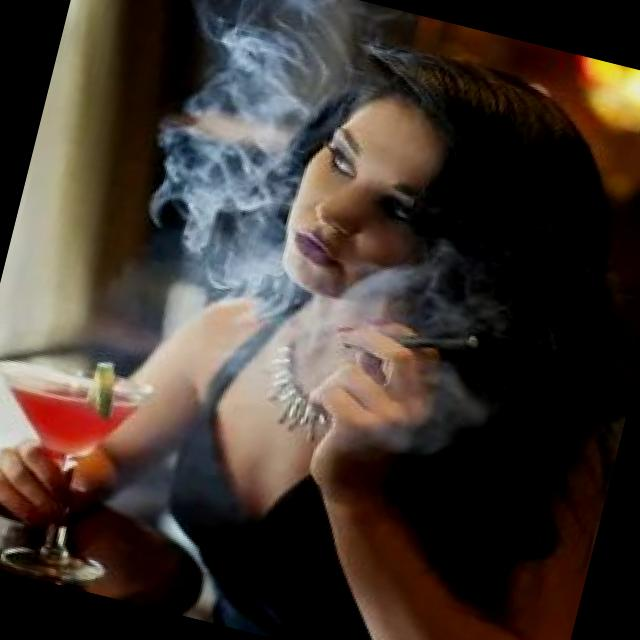smoke: (374, 309, 488, 374)
